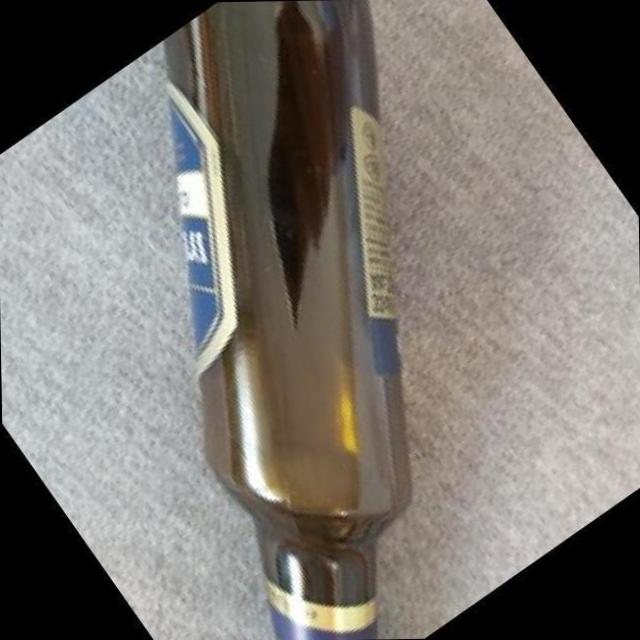BotolKaca: (159, 0, 415, 640)
